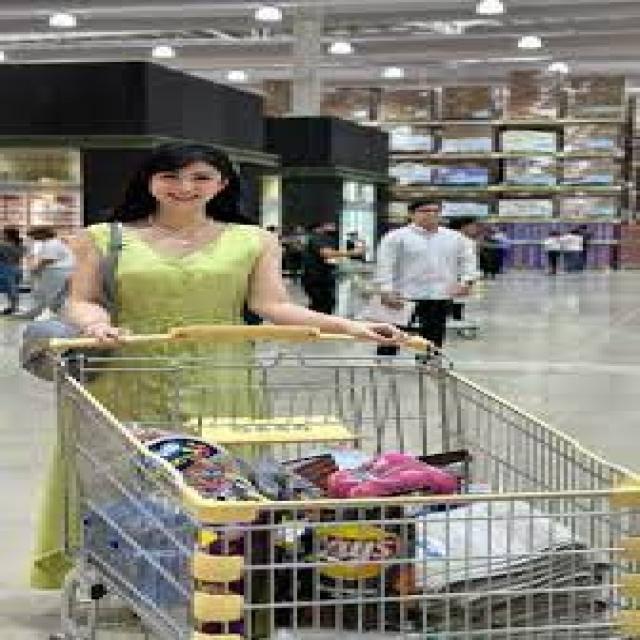Person: (21, 140, 402, 591), (371, 197, 480, 368)
